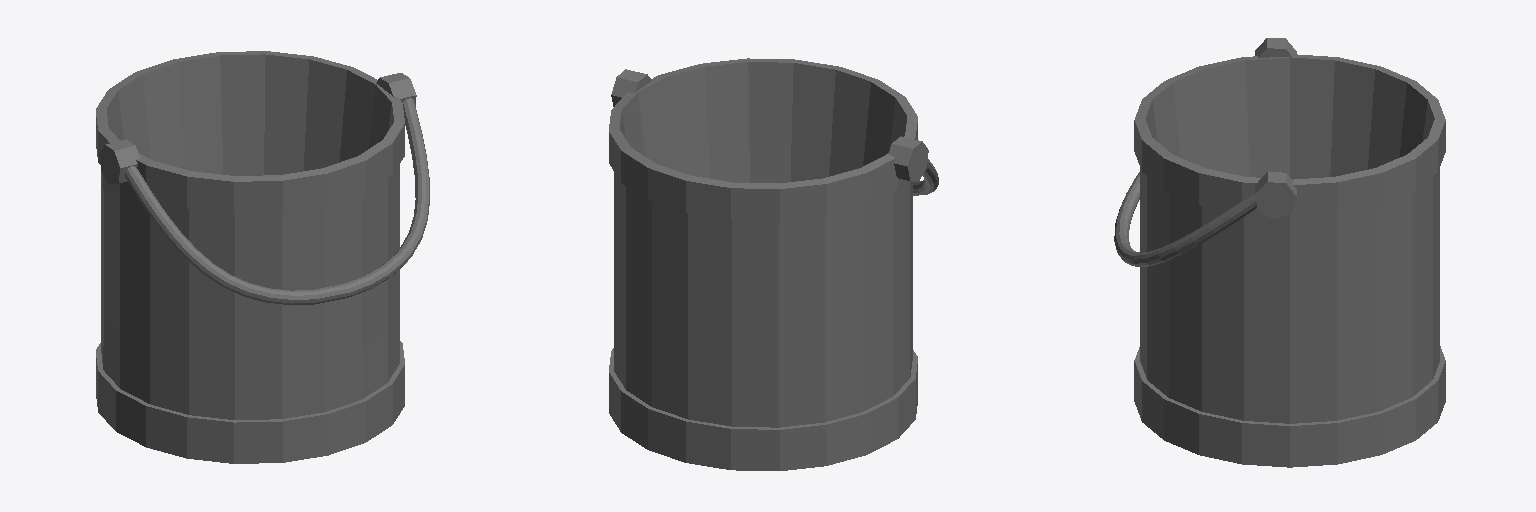
Rendered from Bucket.obj.
3 views of the same model, side by side, from view 1: azimuth 30°, elevation 25°; view 2: azimuth 150°, elevation 25°; view 3: azimuth 270°, elevation 25° (orthographic).
Visible parts, largest first — view 1: polySurface2_polySurface2; view 2: polySurface2_polySurface2; view 3: polySurface2_polySurface2.
Boxes of the visible parts, x1,y1,x2,y2 form: polySurface2_polySurface2: [96, 51, 429, 463]; polySurface2_polySurface2: [609, 58, 938, 470]; polySurface2_polySurface2: [1114, 38, 1445, 467].
Bounding box in the file's own units: 116 × 109 × 112.